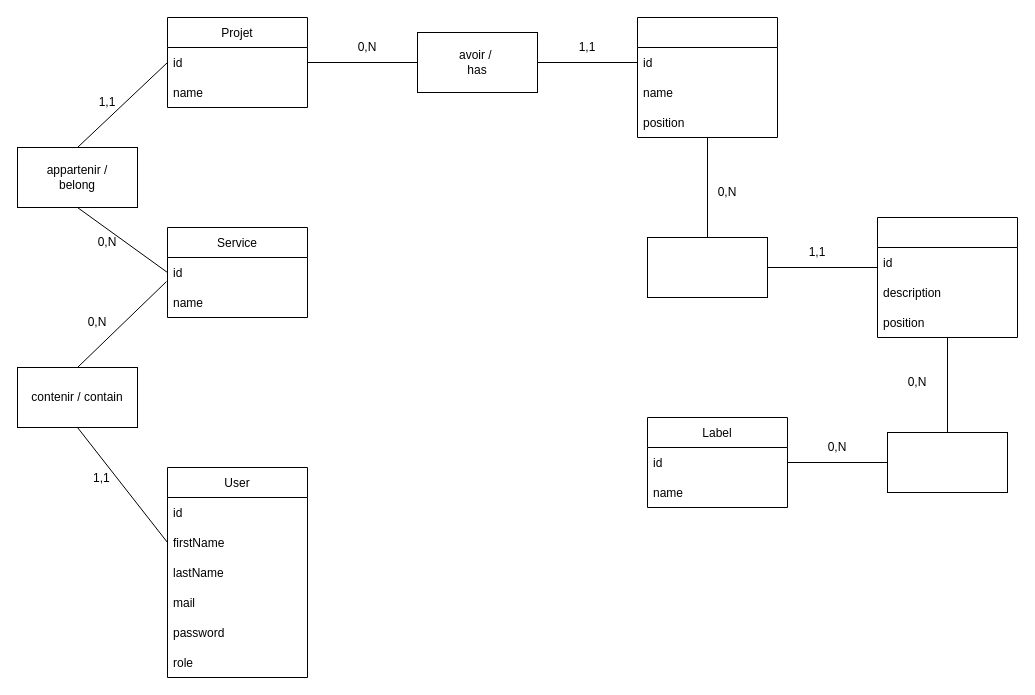
This 1035x695 diagram has some shape labels left out. Each missing label, with the box of its shape:
attacher / attach: (646, 236, 768, 298)
Card: (876, 216, 1018, 338)
List: (636, 16, 778, 138)
possede / own: (886, 432, 1008, 492)
